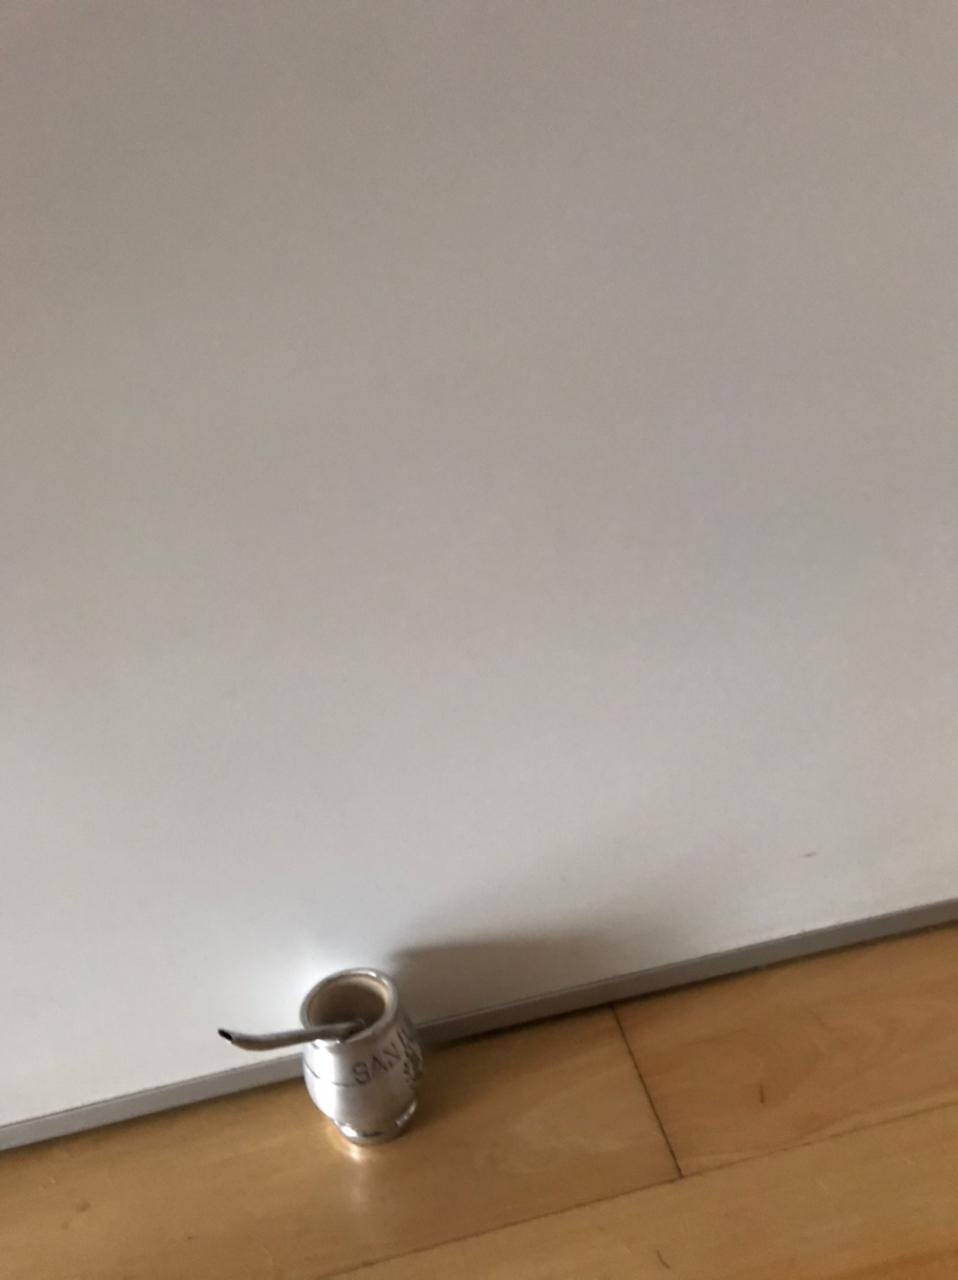mate: (205, 966, 440, 1144)
